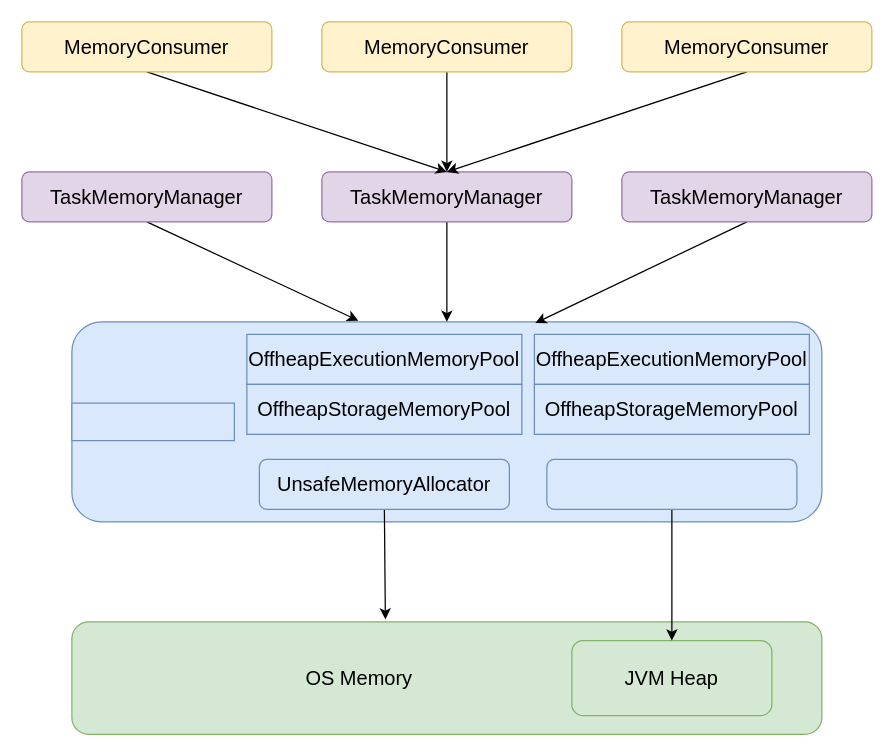
The diagram is 894 pixels wide and 756 high, and some of its shapes have lost their labels. The shapes that lost their labels are listed below. From the top down, each one's centre as x and y in pixels, then its label:
(152,421): MemoryManager
(671,483): HeapMemoryAllocator
